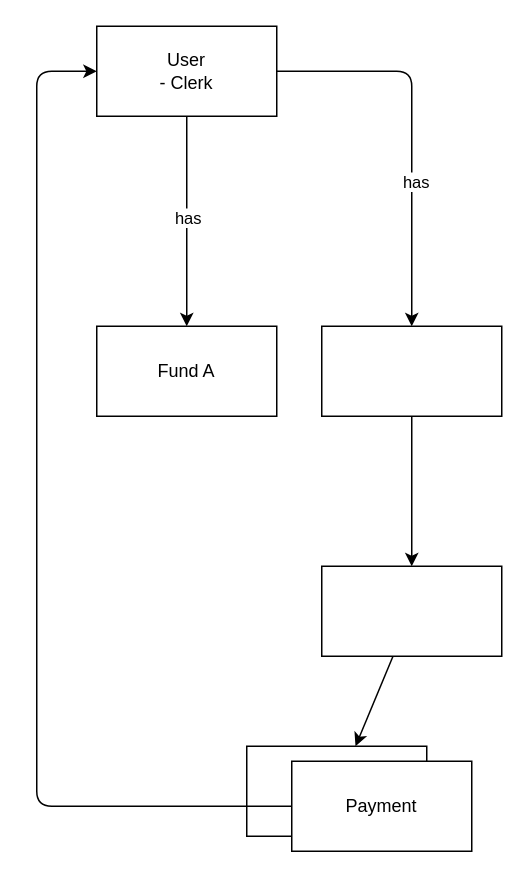
Image size: 528x878. Some labels were removed from this diagram. The shapes that lost their labels are listed below. From the top down, each one's box as (x1, y1, x2, y2) in pixels, then its label:
(320, 325, 502, 416): Fund B
(320, 565, 502, 656): Dataset
